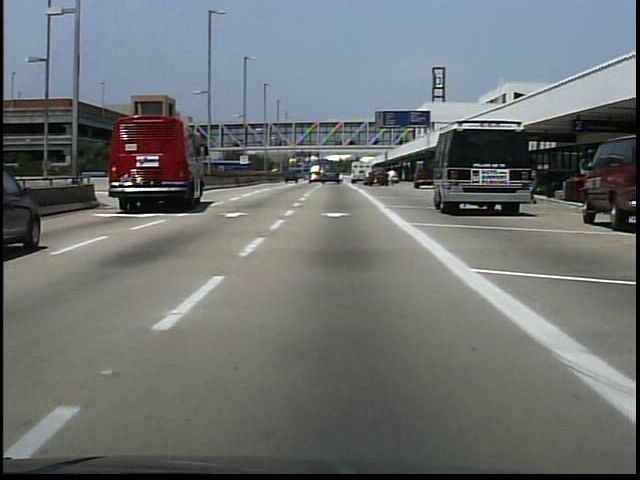person: (387, 168, 400, 190)
